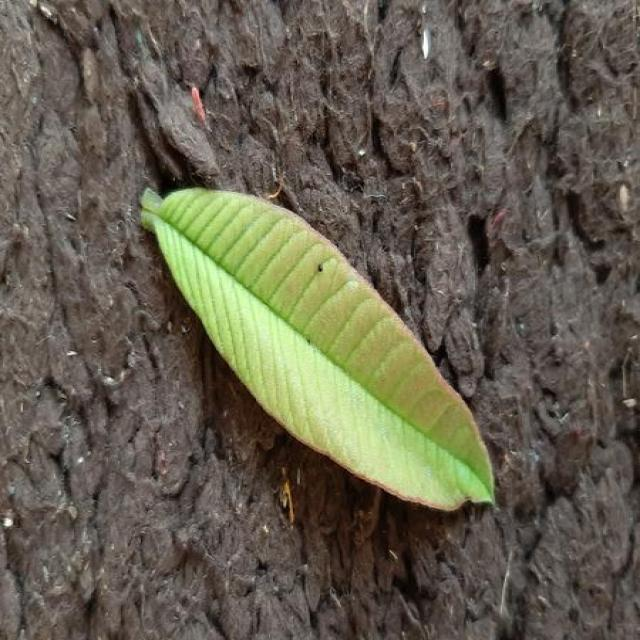leaf: (138, 183, 497, 513)
